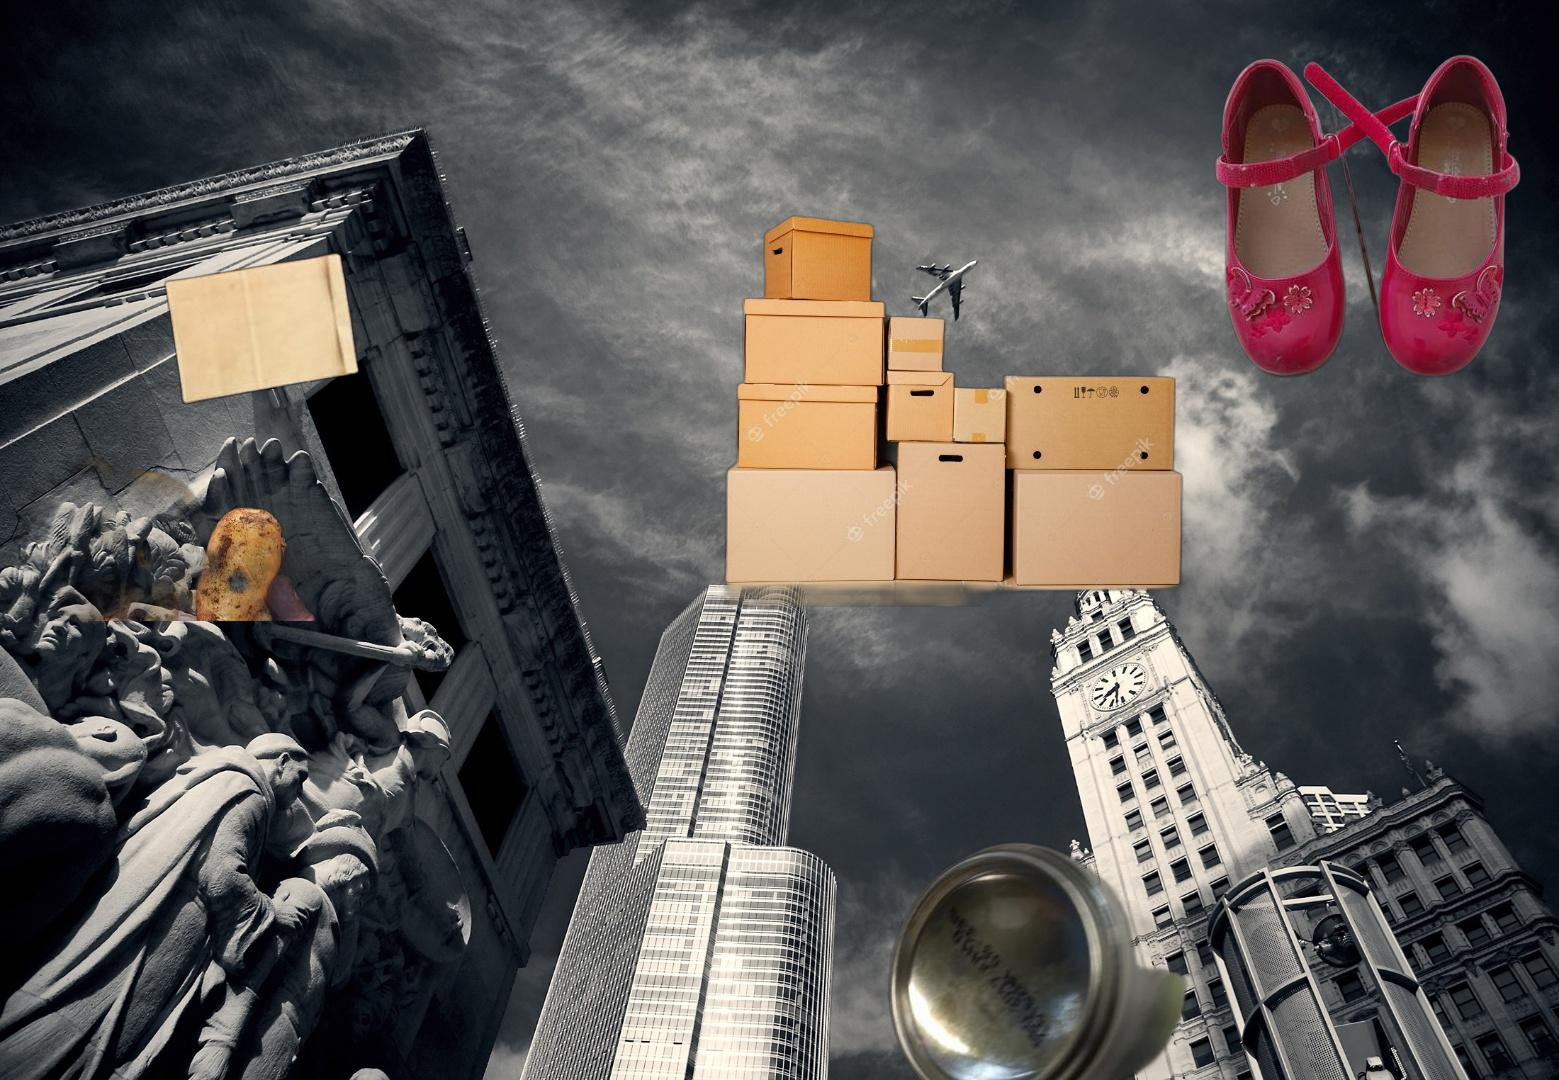biological: (57, 454, 357, 621)
metal-cans: (778, 837, 1237, 1080)
paper-bag: (163, 250, 363, 407)
shoes: (1211, 50, 1523, 499)
trashbox-cardboard: (718, 212, 1193, 607)
